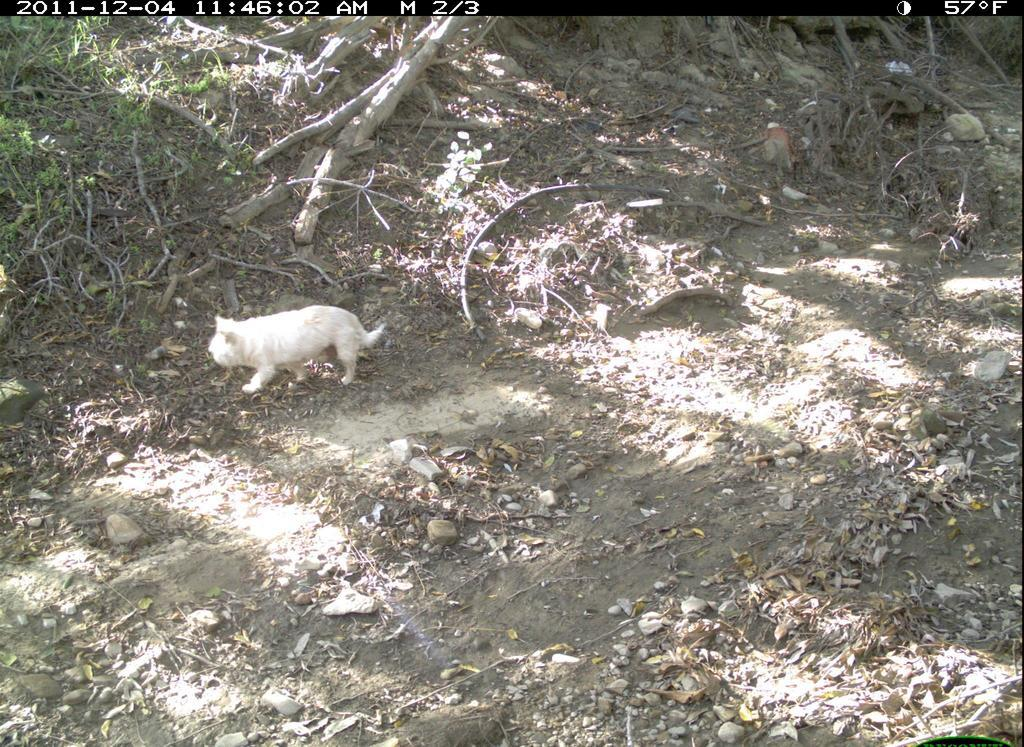dog: (193, 291, 410, 401)
